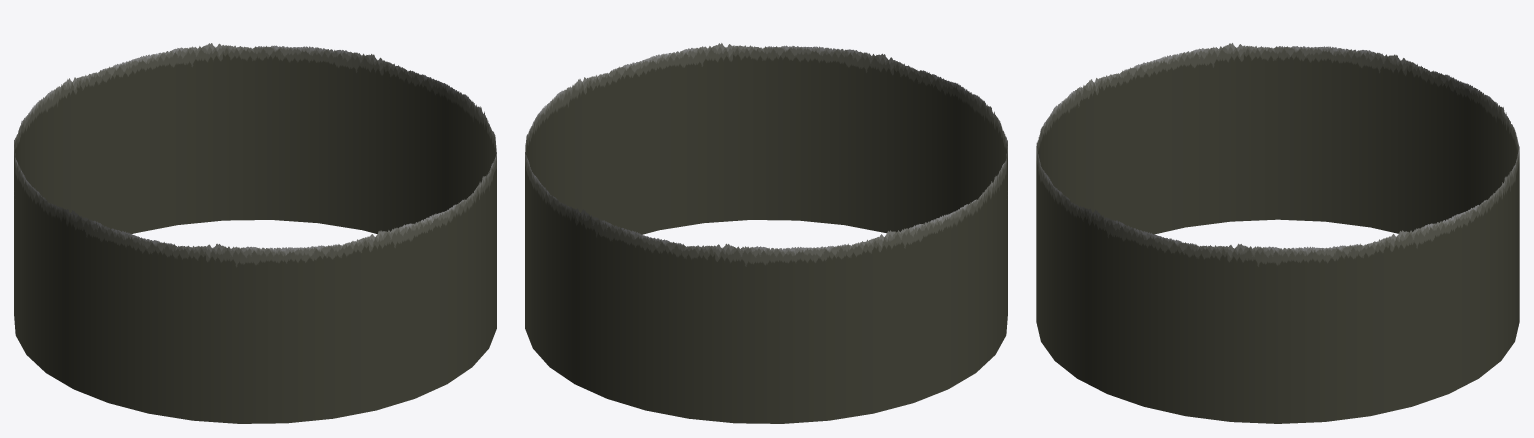
File: backroundModel.fbx
The picture shows the model from 3 angles, left to right: view 1: azimuth 30°, elevation 25°; view 2: azimuth 150°, elevation 25°; view 3: azimuth 270°, elevation 25°; orthographic projection.
Parts seen in each view (by area): view 1: Cylinder; view 2: Cylinder; view 3: Cylinder.
Boxes of the visible parts, x1,y1,x2,y2 form: Cylinder: (14, 43, 496, 423); Cylinder: (525, 43, 1007, 423); Cylinder: (1036, 43, 1519, 423).
Size of the model in its own units: 10000 by 4696 by 10000.
1 material, 1 textured.
